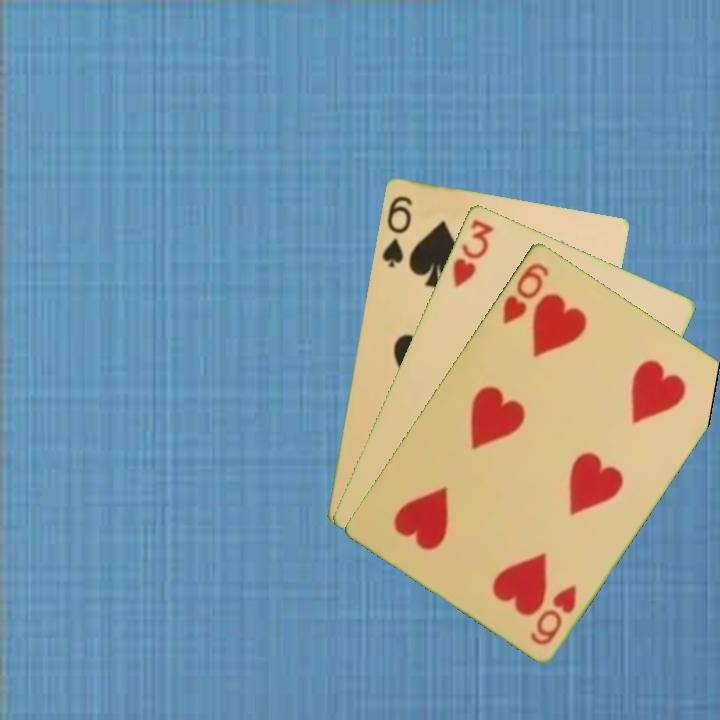3h: (448, 215, 496, 291)
6h: (498, 258, 552, 327), (526, 580, 580, 648)
6s: (378, 192, 415, 270)
